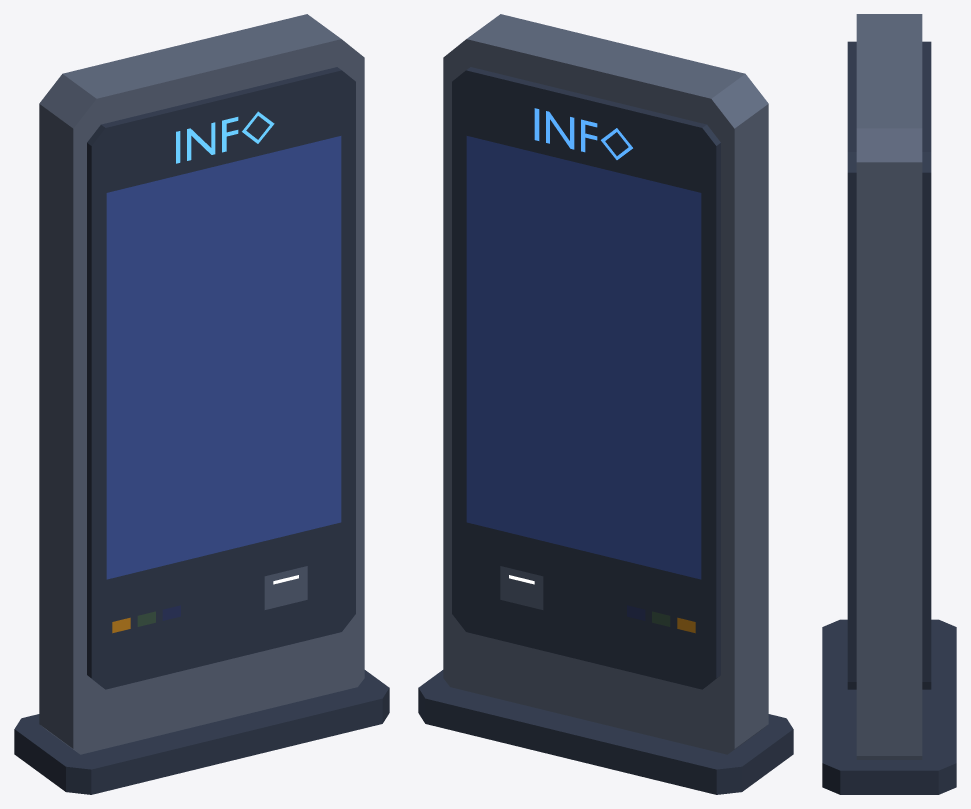
File: mall_directory.glb
The picture shows the model from 3 angles, left to right: view 1: azimuth 30°, elevation 25°; view 2: azimuth 150°, elevation 25°; view 3: azimuth 270°, elevation 25°; orthographic projection. The views are drawn at different scales.
Visible parts, largest first — view 1: floor_map, display_surround, pylon, reader, lettering; view 2: floor_map, display_surround, pylon, reader, lettering; view 3: pylon, display_surround.
Part boxes in pixels (x1,y1,x2,y2): floor_map: [106, 136, 341, 579]; display_surround: [14, 67, 389, 794]; pylon: [39, 14, 364, 754]; reader: [264, 566, 307, 609]; lettering: [176, 111, 274, 163]; floor_map: [466, 136, 701, 579]; display_surround: [418, 67, 793, 794]; pylon: [443, 14, 768, 754]; reader: [500, 566, 543, 609]; lettering: [534, 108, 632, 159]; pylon: [856, 14, 922, 759]; display_surround: [822, 41, 956, 794].
Size of the model in its own units: 1.2 by 2.4 by 0.45.
